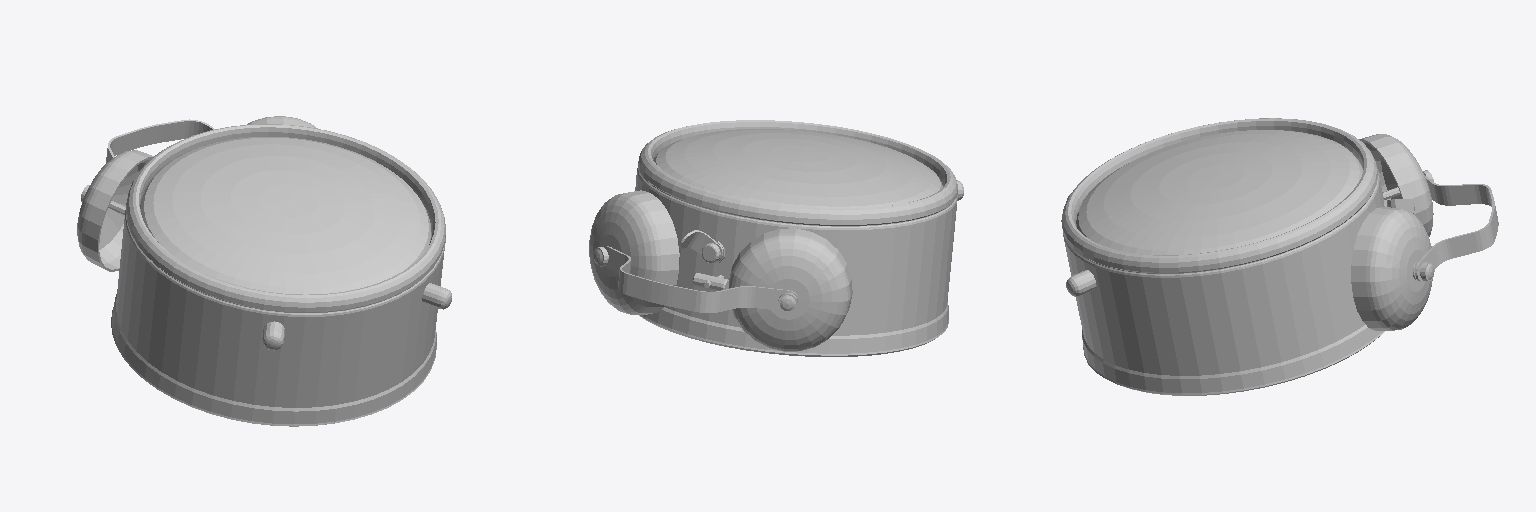
File: clock2.obj
The picture shows the model from 3 angles: view 1: azimuth 30°, elevation 25°; view 2: azimuth 150°, elevation 25°; view 3: azimuth 270°, elevation 25°; orthographic projection.
Parts seen in each view (by area): view 1: 메시; view 2: 메시; view 3: 메시.
Boxes of the visible parts, <box> form: 메시: <box>77,116,451,426</box>; 메시: <box>589,120,963,356</box>; 메시: <box>1061,118,1498,395</box>.
Size of the model in its own units: 0.1317 by 0.0828 by 0.1758.